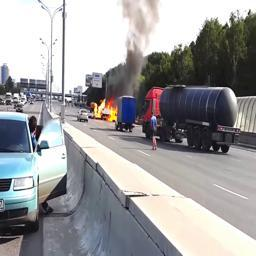fire: (93, 98, 118, 122)
